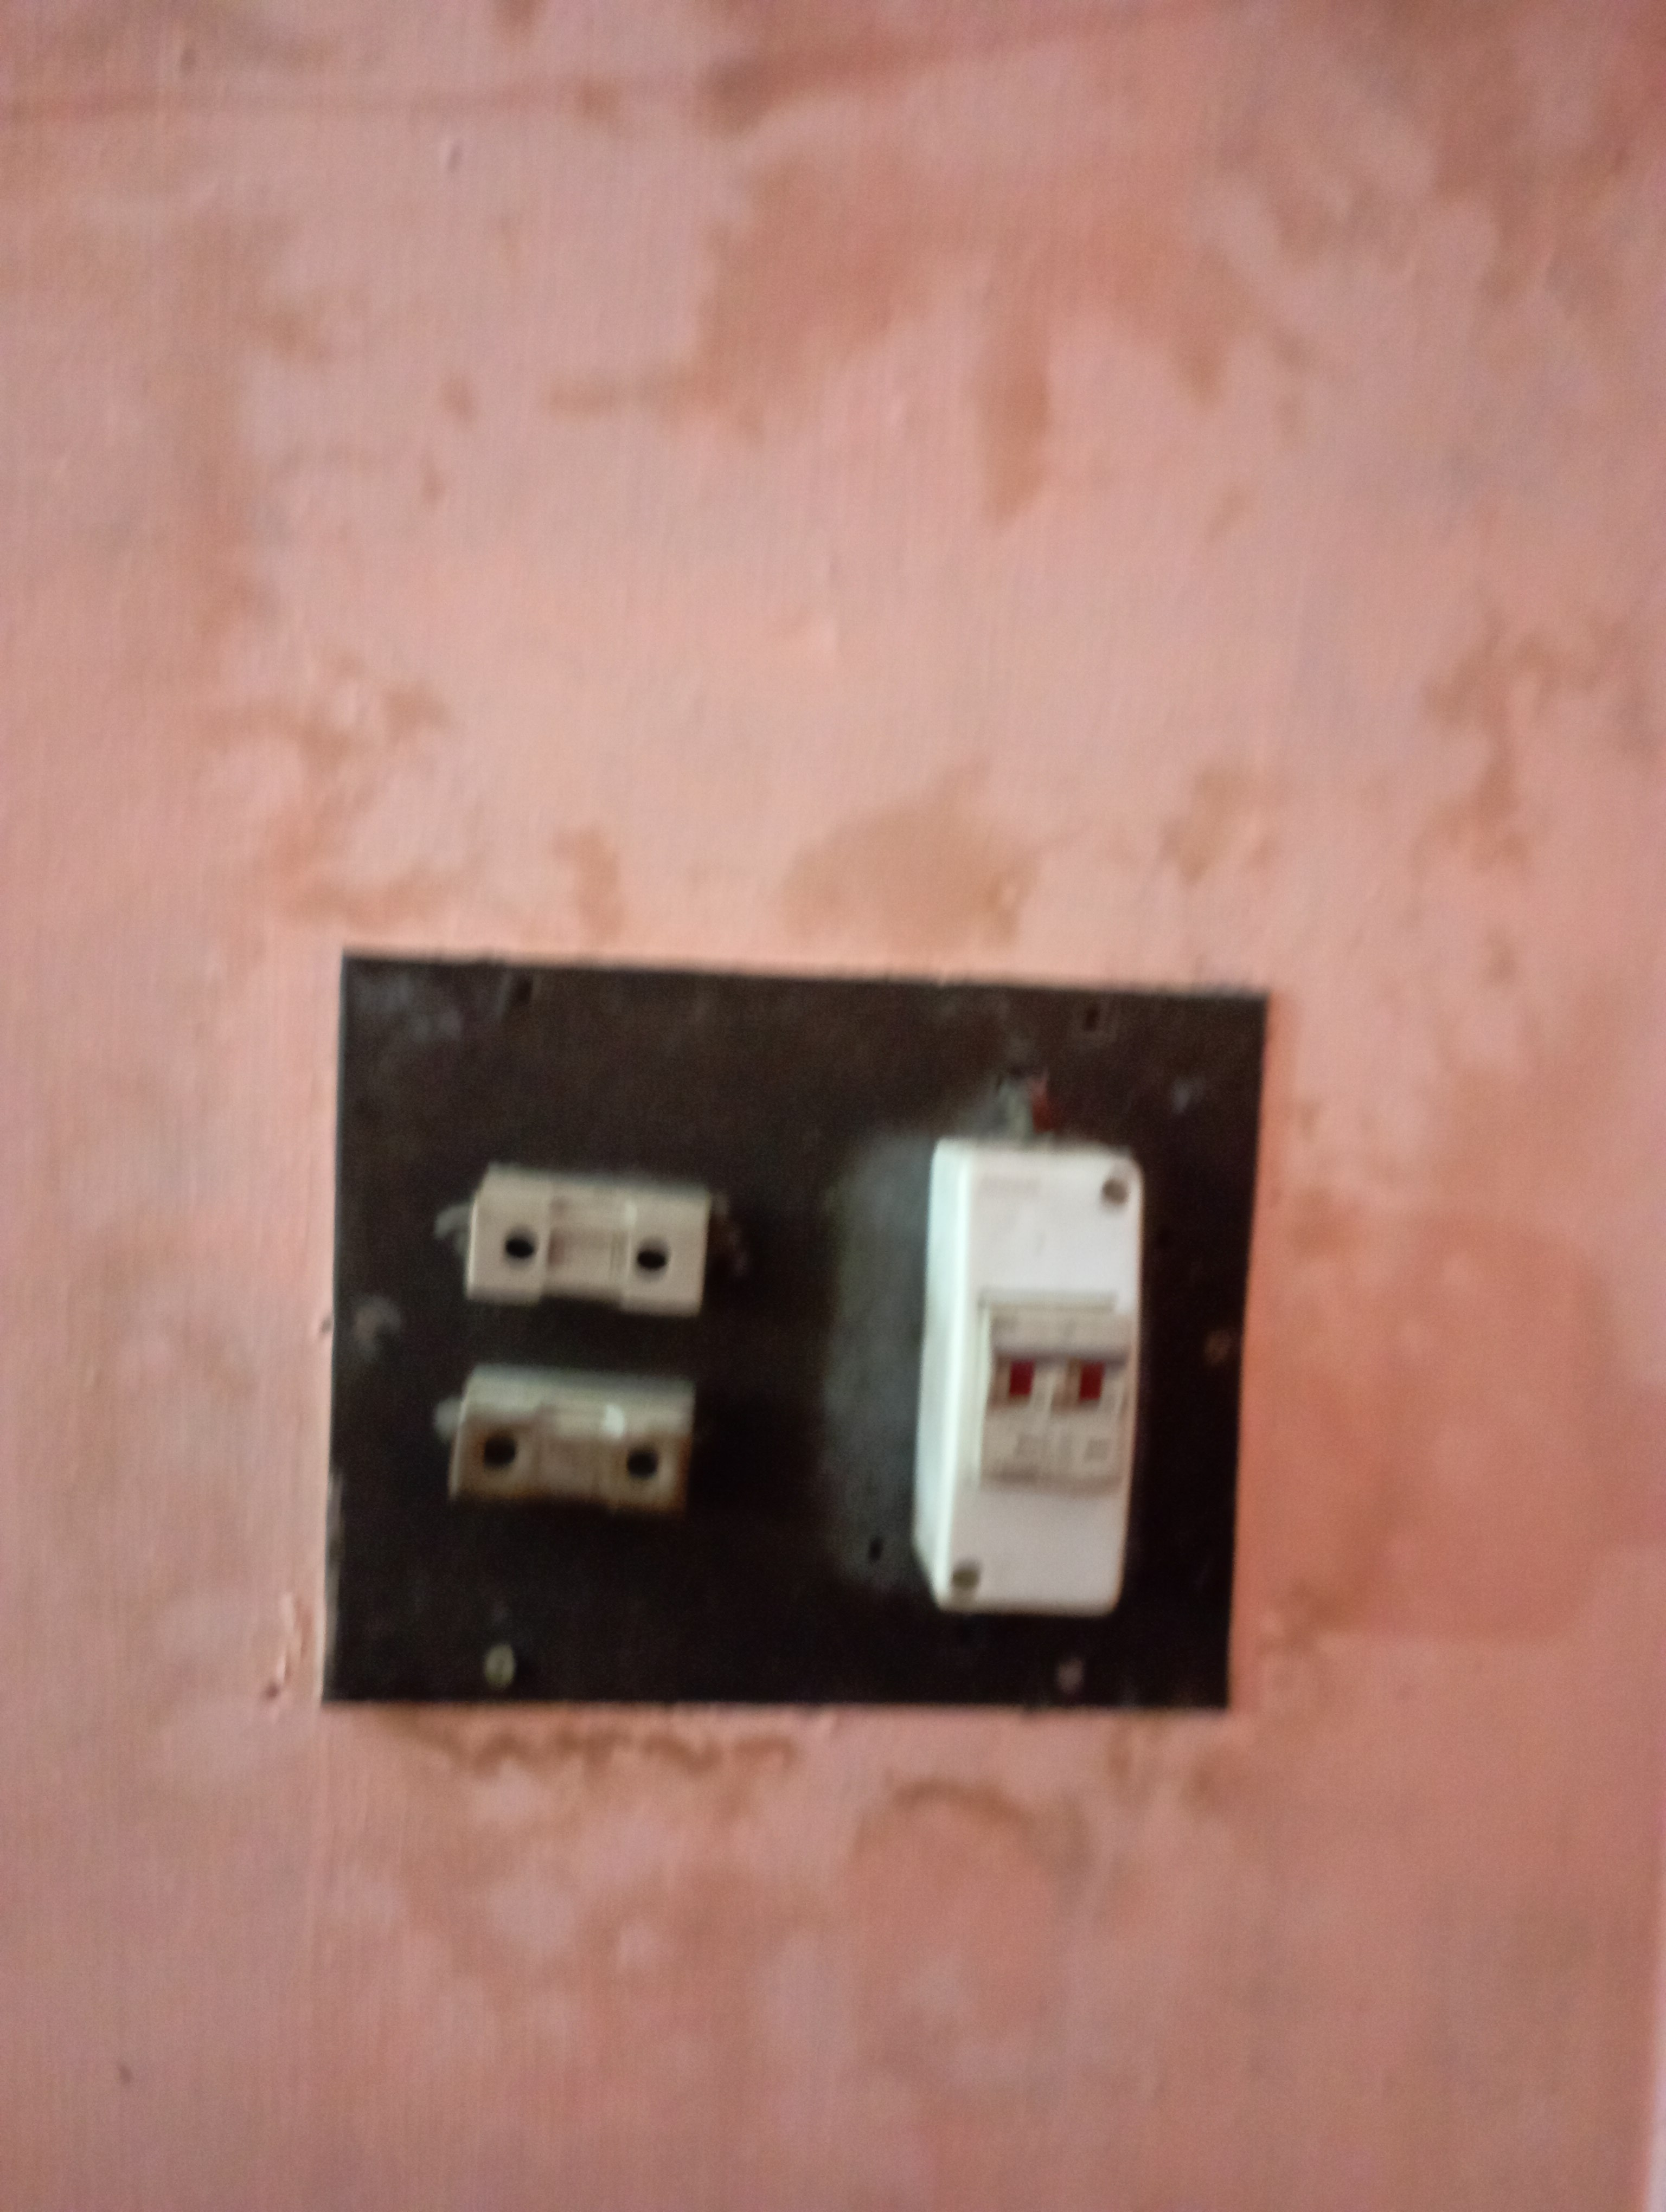ciruit_breaker: (886, 1128, 1159, 1630)
fuse: (436, 1145, 737, 1325), (406, 1380, 728, 1520)
